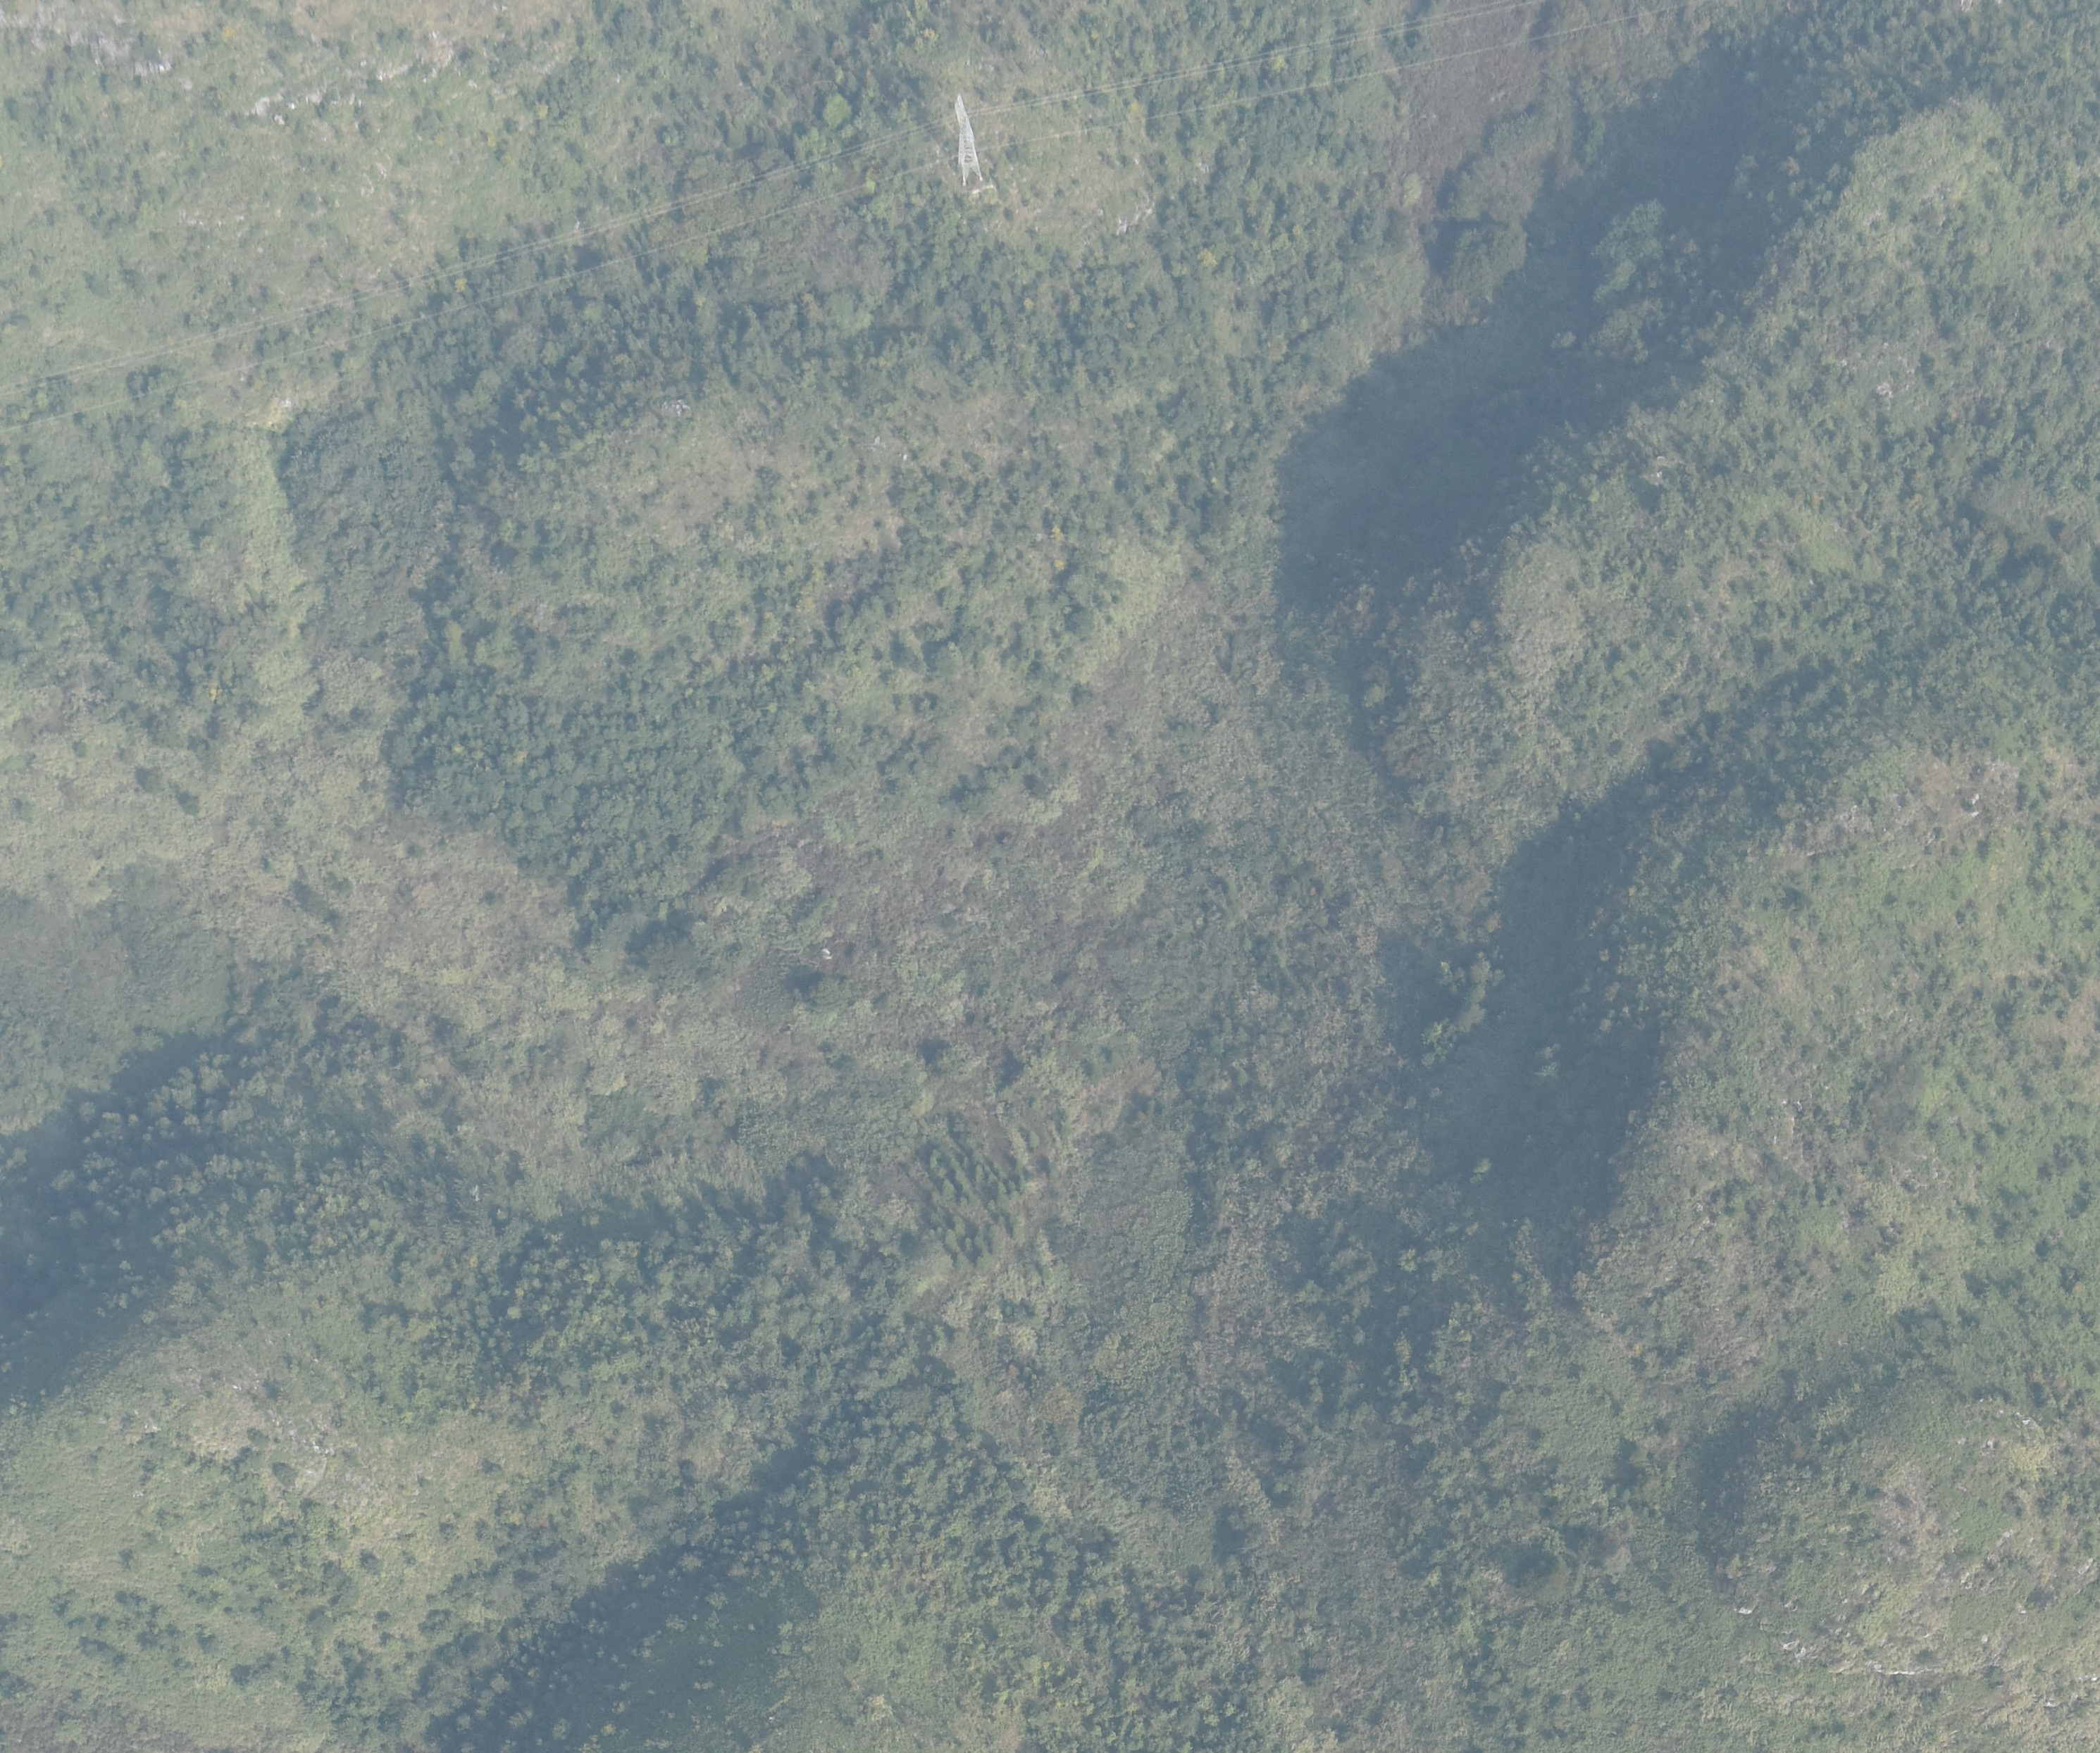cable-tower: (955, 94, 985, 185)
